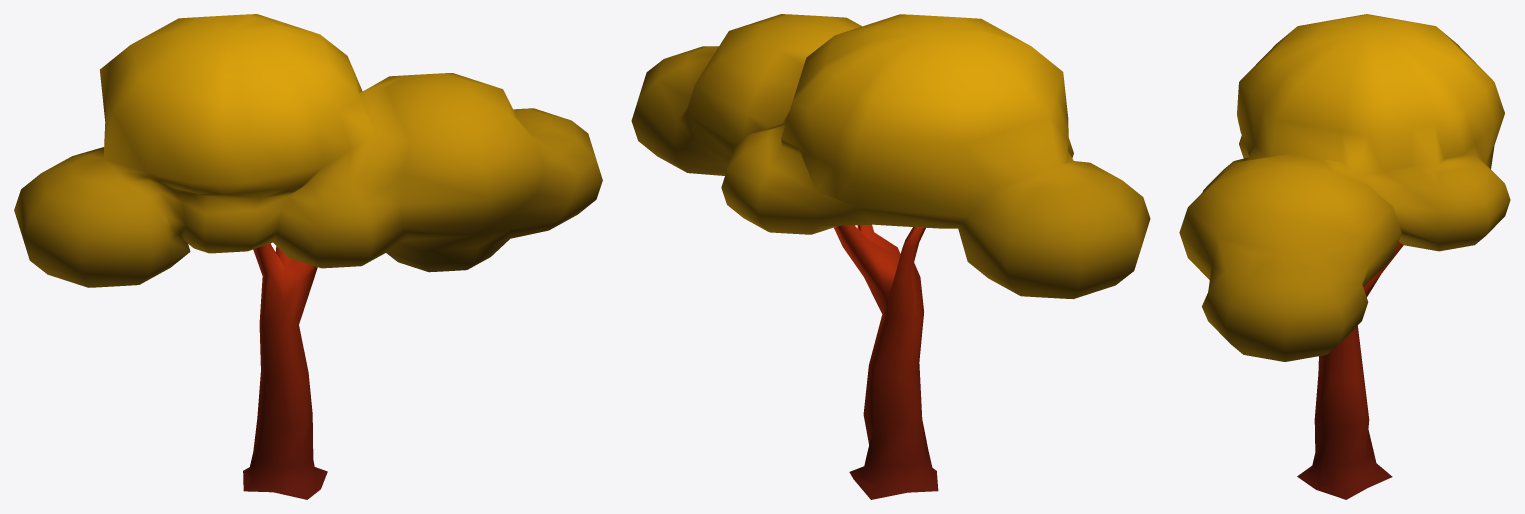
The model's file is ArvoreNuvemAmarela.fbx.
The picture shows the model from 3 angles, left to right: view 1: azimuth 30°, elevation 25°; view 2: azimuth 150°, elevation 25°; view 3: azimuth 270°, elevation 25°; orthographic projection. The views are drawn at different scales.
Visible parts, largest first — view 1: ArvoreNuvem.003; view 2: ArvoreNuvem.003; view 3: ArvoreNuvem.003.
Boxes of the visible parts, x1,y1,x2,y2 form: ArvoreNuvem.003: (14, 14, 602, 499); ArvoreNuvem.003: (631, 14, 1150, 499); ArvoreNuvem.003: (1179, 14, 1510, 499).
Size of the model in its own units: 382 by 315 by 220.
